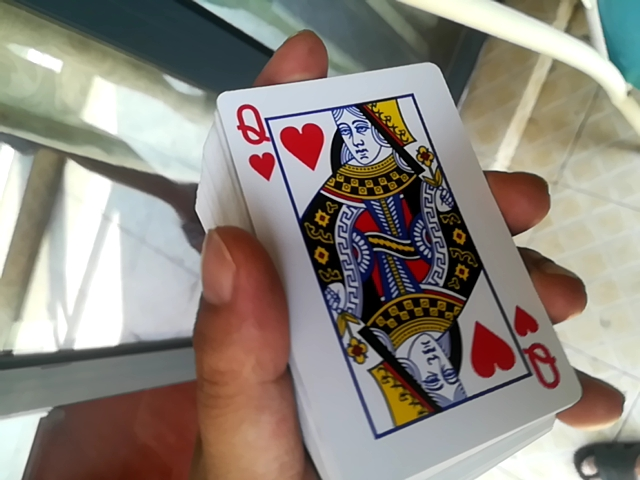hx q: (201, 49, 607, 476)
